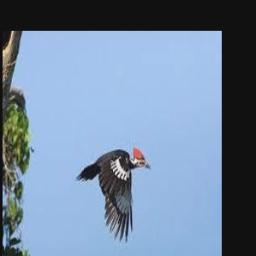Woodpecker: (75, 146, 151, 243)
